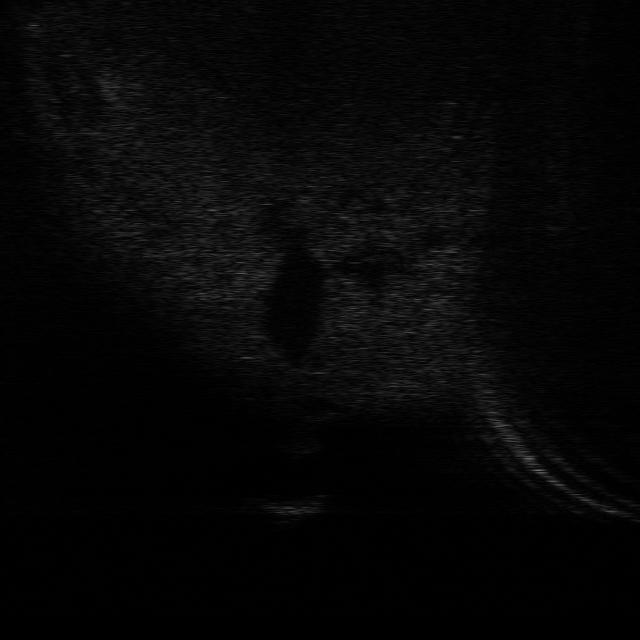cube: (244, 494, 330, 526)
